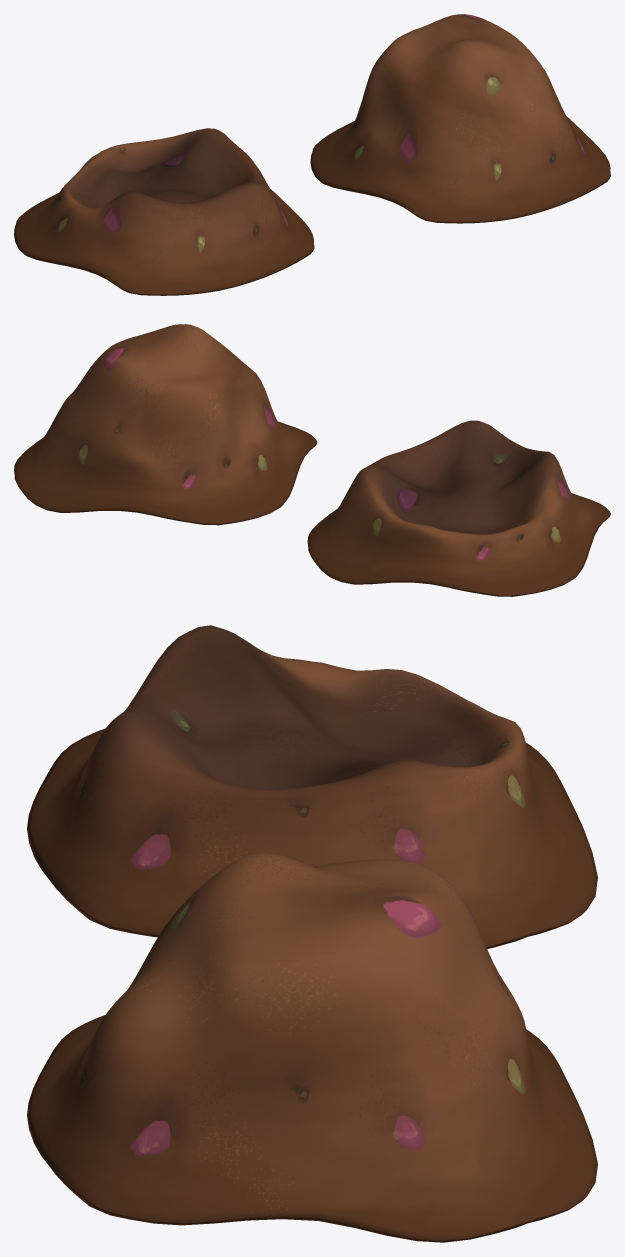
Rendered from Mulch 1.fbx.
3 views of the same model, one above another, from view 1: azimuth 30°, elevation 25°; view 2: azimuth 150°, elevation 25°; view 3: azimuth 270°, elevation 25° (orthographic). The views are drawn at different scales.
Visible parts, largest first — view 1: Mulch, MulchDepleted; view 2: Mulch, MulchDepleted; view 3: Mulch, MulchDepleted.
Part boxes in pixels (x1=…): Mulch: x1=310, y1=14, x2=610, y2=223; MulchDepleted: x1=14, y1=128, x2=314, y2=295; Mulch: x1=14, y1=324, x2=317, y2=525; MulchDepleted: x1=307, y1=420, x2=610, y2=596; Mulch: x1=27, y1=853, x2=597, y2=1242; MulchDepleted: x1=27, y1=625, x2=597, y2=948.
Bounding box in the file's own units: 101 × 25.29 × 46.
2 materials, 2 textured.
